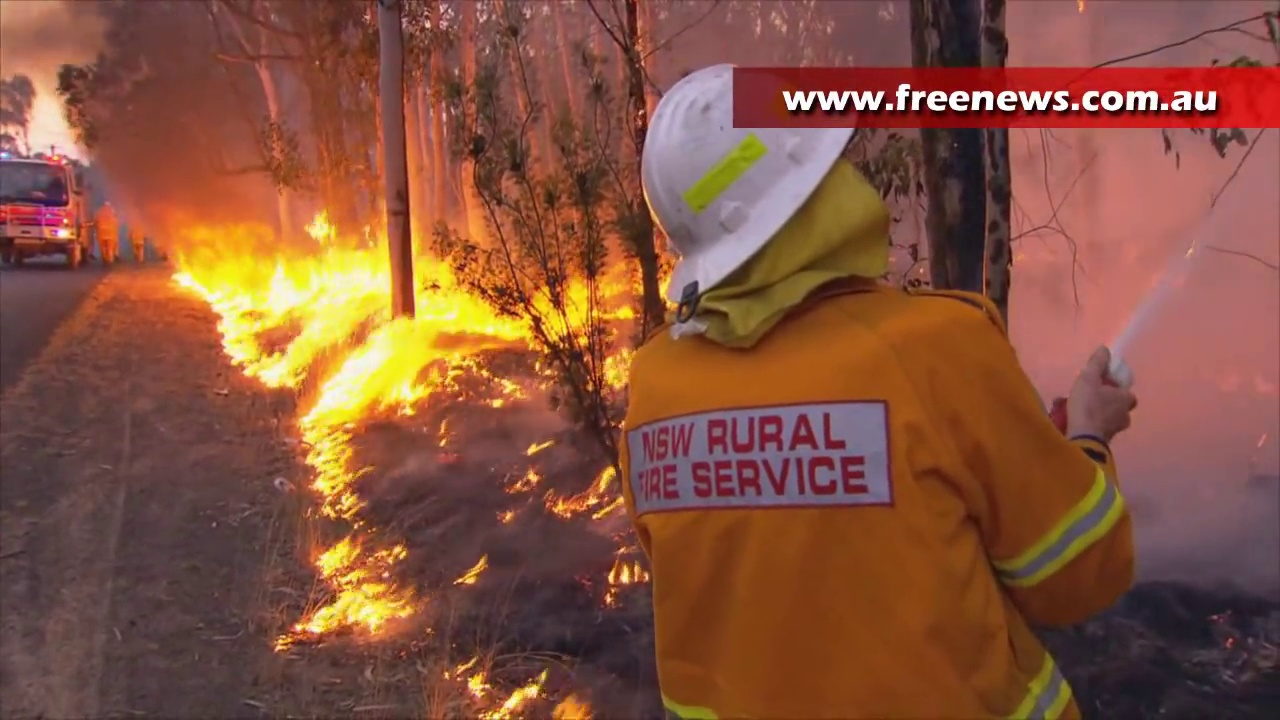fire: (173, 212, 640, 400), (274, 540, 415, 651), (298, 398, 370, 528), (451, 663, 545, 720), (544, 468, 625, 519), (607, 561, 651, 585)
